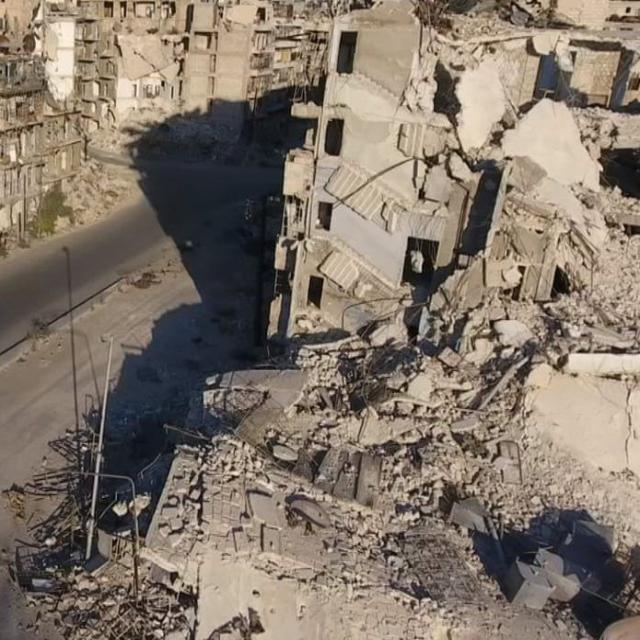collapsed_building: (279, 6, 639, 478)
